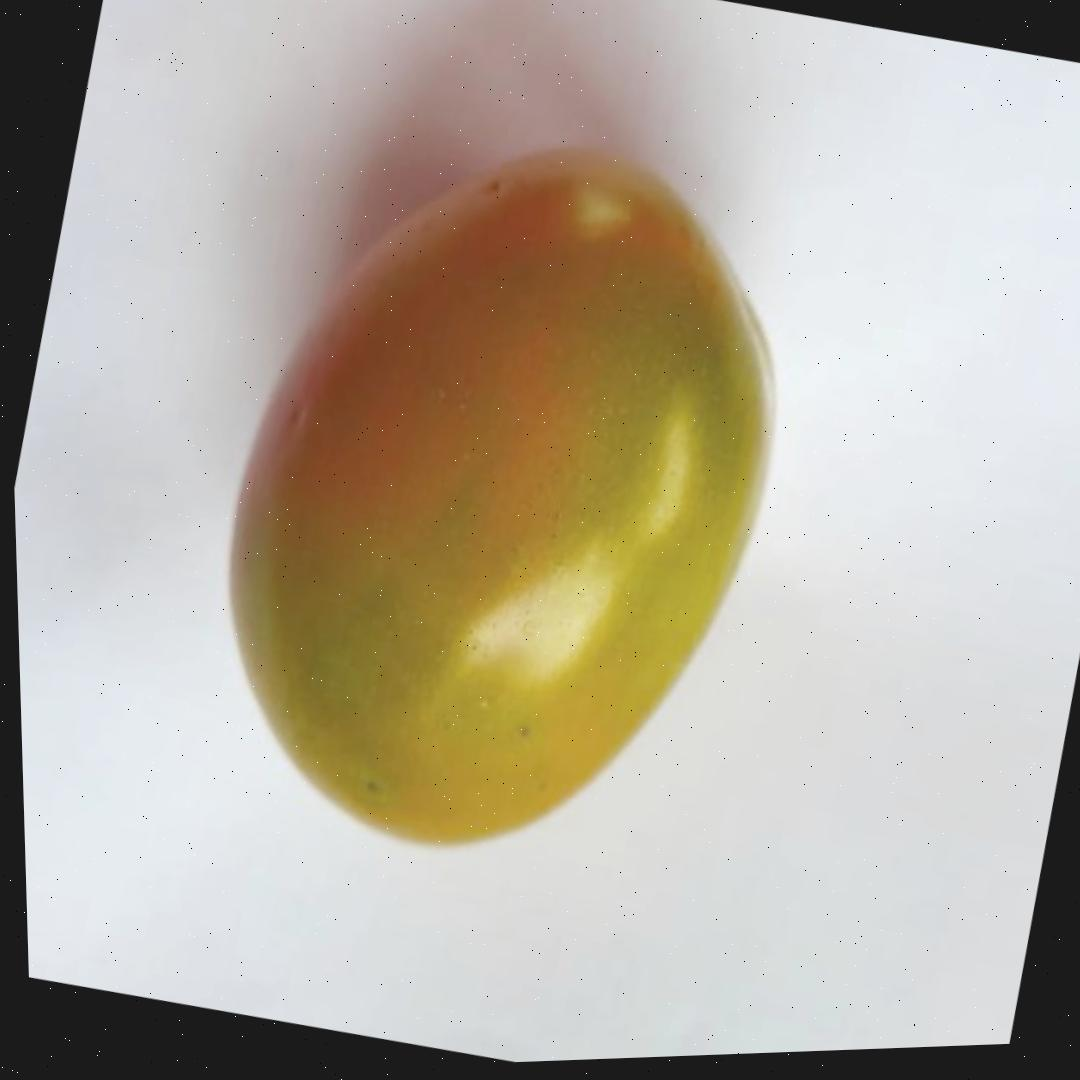setengah_matang: (153, 73, 852, 918)
